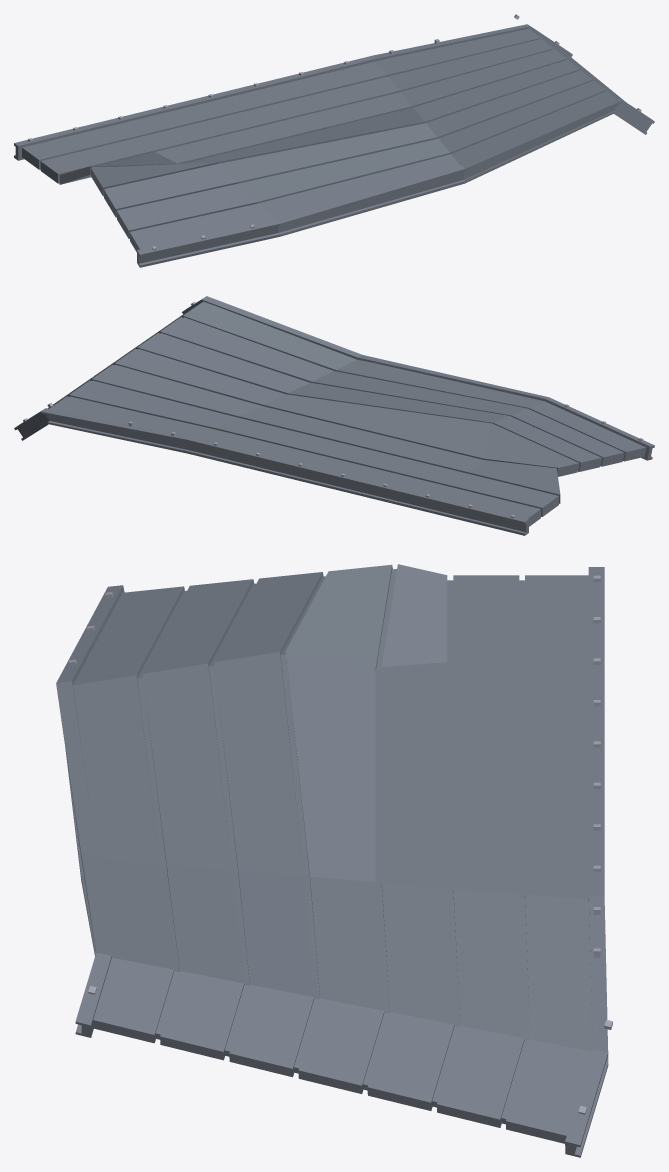
Rendered from Board01_007.fbx.
3 views of the same model, one above another, from view 1: azimuth 30°, elevation 25°; view 2: azimuth 150°, elevation 25°; view 3: azimuth 270°, elevation 25° (orthographic). The views are drawn at different scales.
Visible parts, largest first — view 1: Board01.007; view 2: Board01.007; view 3: Board01.007.
Boxes of the visible parts, x1,y1,x2,y2 form: Board01.007: (14, 14, 654, 267); Board01.007: (14, 296, 654, 535); Board01.007: (56, 564, 612, 1157).
Size of the model in its own units: 2.14 by 0.2804 by 0.9858.
